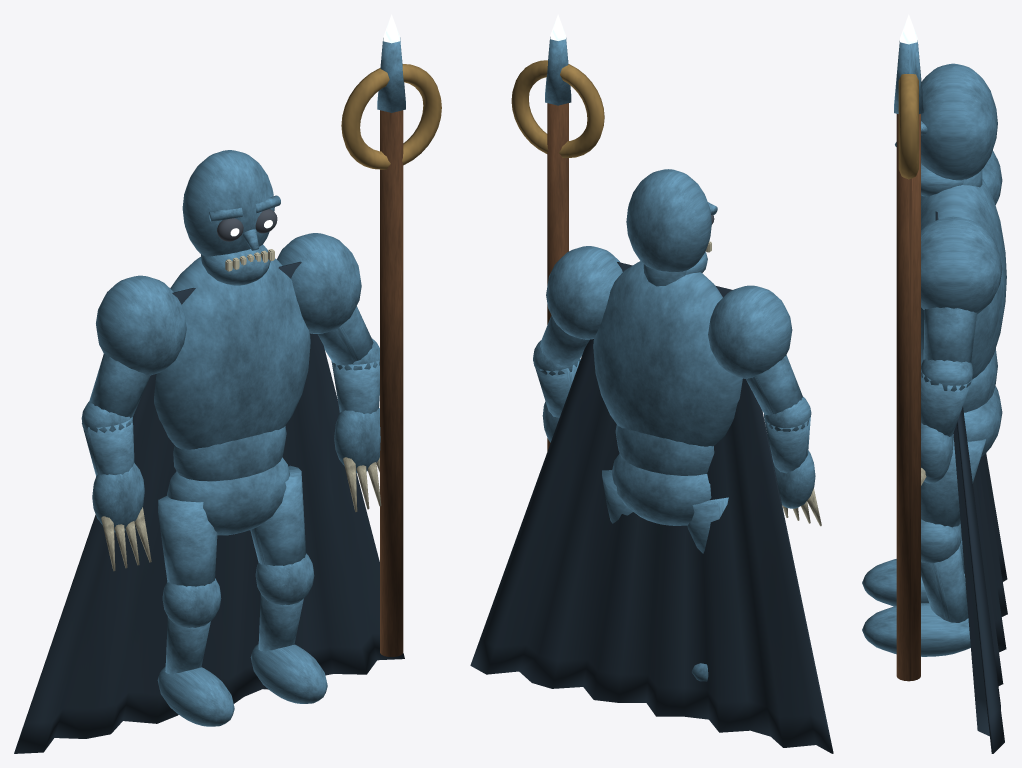
The model's file is enemy_blizzard_spirit.glb.
The picture shows the model from 3 angles, left to right: view 1: azimuth 30°, elevation 25°; view 2: azimuth 150°, elevation 25°; view 3: azimuth 270°, elevation 25°; orthographic projection. The views are drawn at different scales.
Parts seen in each view (by area): view 1: Woven_midnight_wool, Blue_glacial_ice, Blue_glacial_ice.002, Old_oak, Blue_glacial_ice.004, Blue_glacial_ice.001, Blue_glacial_ice.003, Blue_glacial_ice.005, Antique_brass, Blue_glacial_ice.006, Aged_bone, Aged_bone.001 (+1 smaller); view 2: Woven_midnight_wool, Blue_glacial_ice, Blue_glacial_ice.002, Blue_glacial_ice.004, Blue_glacial_ice.005, Antique_brass, Old_oak, Blue_glacial_ice.001, Blue_glacial_ice.006, Blue_glacial_ice.003; view 3: Blue_glacial_ice.004, Old_oak, Woven_midnight_wool, Blue_glacial_ice.003, Blue_glacial_ice.005, Blue_glacial_ice, Antique_brass, Blue_glacial_ice.001, Blue_glacial_ice.006, Blue_glacial_ice.002, Frost_core.001.
Part boxes in pixels (bbox=[...]): Woven_midnight_wool: bbox=[14, 261, 404, 753]; Blue_glacial_ice: bbox=[154, 257, 310, 535]; Blue_glacial_ice.002: bbox=[81, 275, 186, 532]; Old_oak: bbox=[380, 110, 403, 657]; Blue_glacial_ice.004: bbox=[277, 233, 380, 473]; Blue_glacial_ice.001: bbox=[157, 496, 234, 726]; Blue_glacial_ice.003: bbox=[250, 465, 327, 703]; Blue_glacial_ice.005: bbox=[182, 150, 280, 285]; Antique_brass: bbox=[341, 64, 441, 169]; Blue_glacial_ice.006: bbox=[377, 37, 405, 112]; Aged_bone: bbox=[101, 507, 151, 571]; Aged_bone.001: bbox=[343, 457, 381, 512]; Woven_midnight_wool: bbox=[470, 262, 833, 753]; Blue_glacial_ice: bbox=[593, 261, 742, 525]; Blue_glacial_ice.002: bbox=[708, 285, 815, 508]; Blue_glacial_ice.004: bbox=[533, 246, 622, 442]; Blue_glacial_ice.005: bbox=[626, 169, 717, 286]; Antique_brass: bbox=[511, 60, 604, 157]; Old_oak: bbox=[547, 103, 568, 451]; Blue_glacial_ice.001: bbox=[687, 497, 728, 681]; Blue_glacial_ice.006: bbox=[545, 37, 571, 105]; Blue_glacial_ice.003: bbox=[602, 470, 632, 523]; Blue_glacial_ice.004: bbox=[921, 216, 1002, 483]; Old_oak: bbox=[896, 114, 920, 681]; Woven_midnight_wool: bbox=[935, 211, 1007, 753]; Blue_glacial_ice.003: bbox=[862, 439, 985, 656]; Blue_glacial_ice.005: bbox=[895, 63, 997, 196]; Blue_glacial_ice: bbox=[921, 179, 1006, 456]; Antique_brass: bbox=[898, 74, 918, 179]; Blue_glacial_ice.001: bbox=[862, 537, 965, 606]; Blue_glacial_ice.006: bbox=[894, 40, 923, 113]; Blue_glacial_ice.002: bbox=[982, 150, 1002, 204]; Frost_core.001: bbox=[900, 14, 917, 44].
Size of the model in its own units: 3.47 by 5.82 by 1.08.
7 materials, 5 textured.
